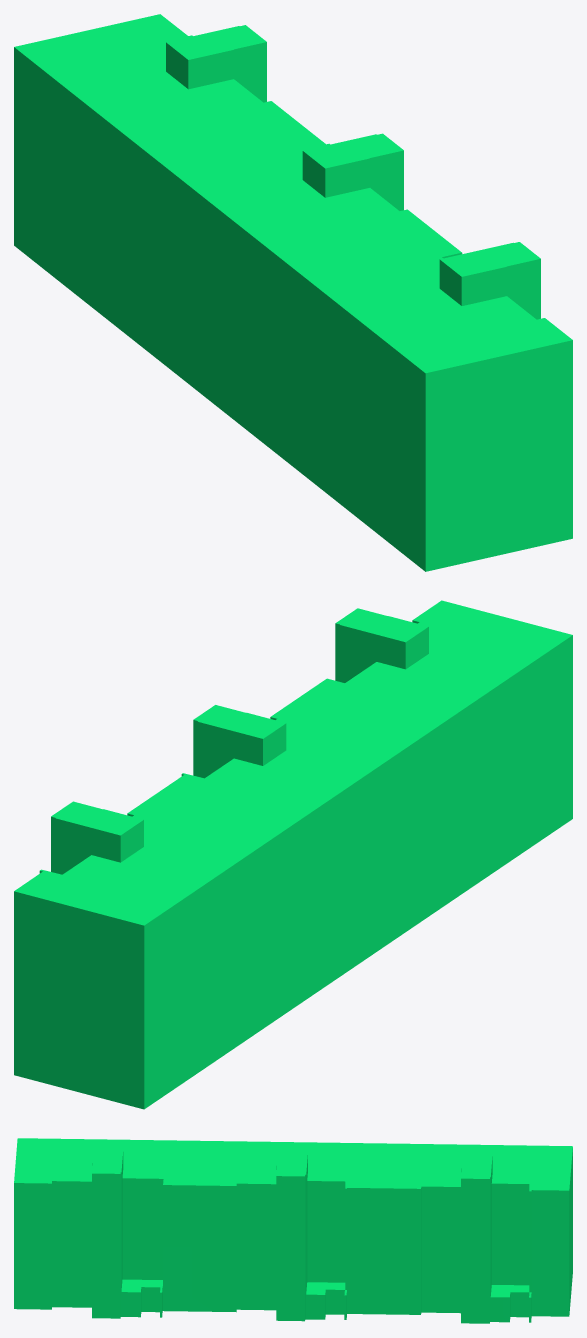
Rendered from DEHB01ALs0000fpH.gltf.
3 views of the same model, one above another, from view 1: azimuth 30°, elevation 25°; view 2: azimuth 150°, elevation 25°; view 3: azimuth 270°, elevation 25° (orthographic). The views are drawn at different scales.
Visible parts, largest first — view 1: Z_UP; view 2: Z_UP; view 3: Z_UP.
Part boxes in pixels (bbox=[...]): Z_UP: bbox=[14, 14, 572, 571]; Z_UP: bbox=[14, 600, 572, 1109]; Z_UP: bbox=[14, 1138, 572, 1323].
Bounding box in the file's own units: 15.75 × 17.87 × 62.55.
